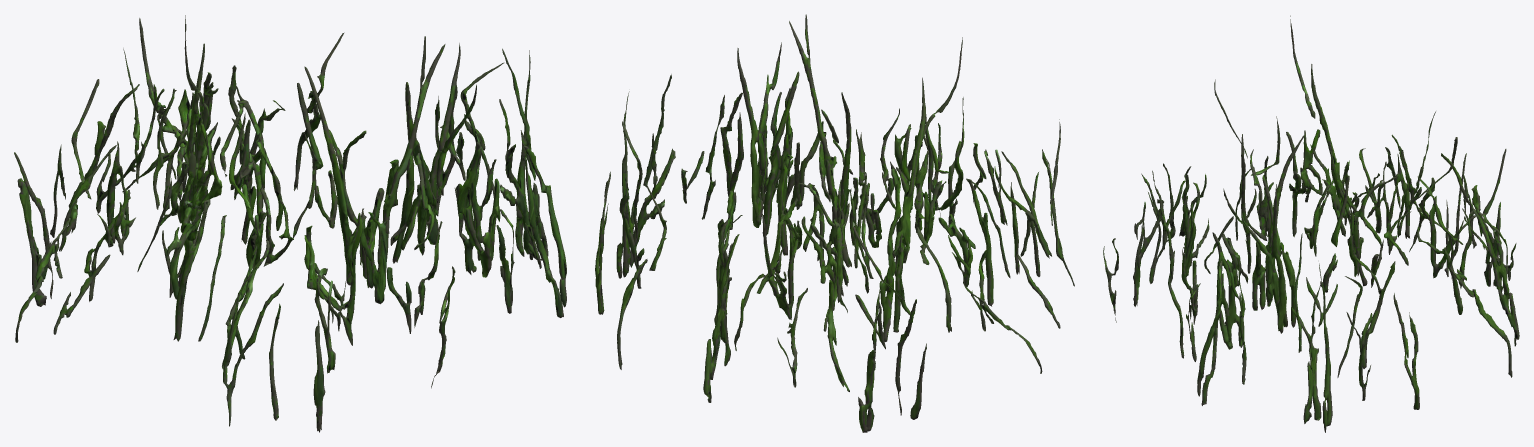
The model's file is Grass_Patch1_3Dmodel.glb.
The picture shows the model from 3 angles, left to right: view 1: azimuth 30°, elevation 25°; view 2: azimuth 150°, elevation 25°; view 3: azimuth 270°, elevation 25°; orthographic projection. The views are drawn at different scales.
Size of the model in its own units: 1.18 by 0.7971 by 1.07.
Materials: 1 (1 with a texture image).
